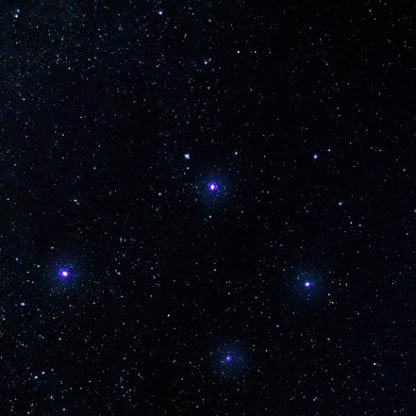Southern Cross: (47, 261, 80, 291), (290, 264, 316, 298), (198, 175, 224, 201), (217, 347, 239, 369)
